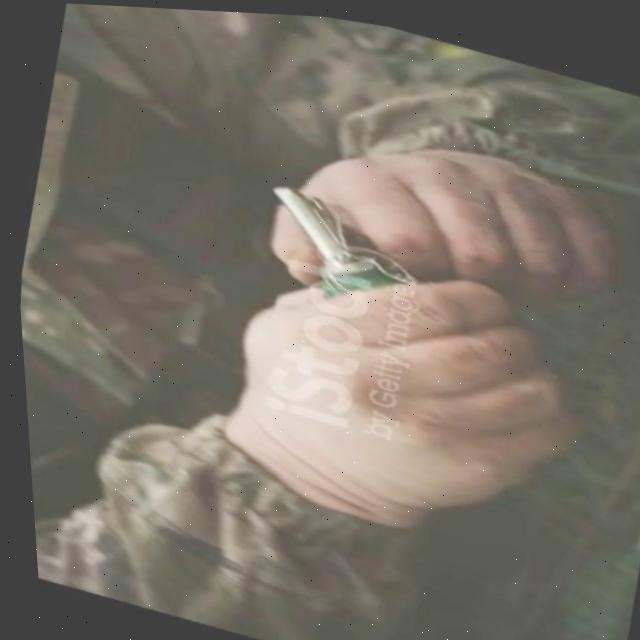grenade: (247, 168, 413, 297)
